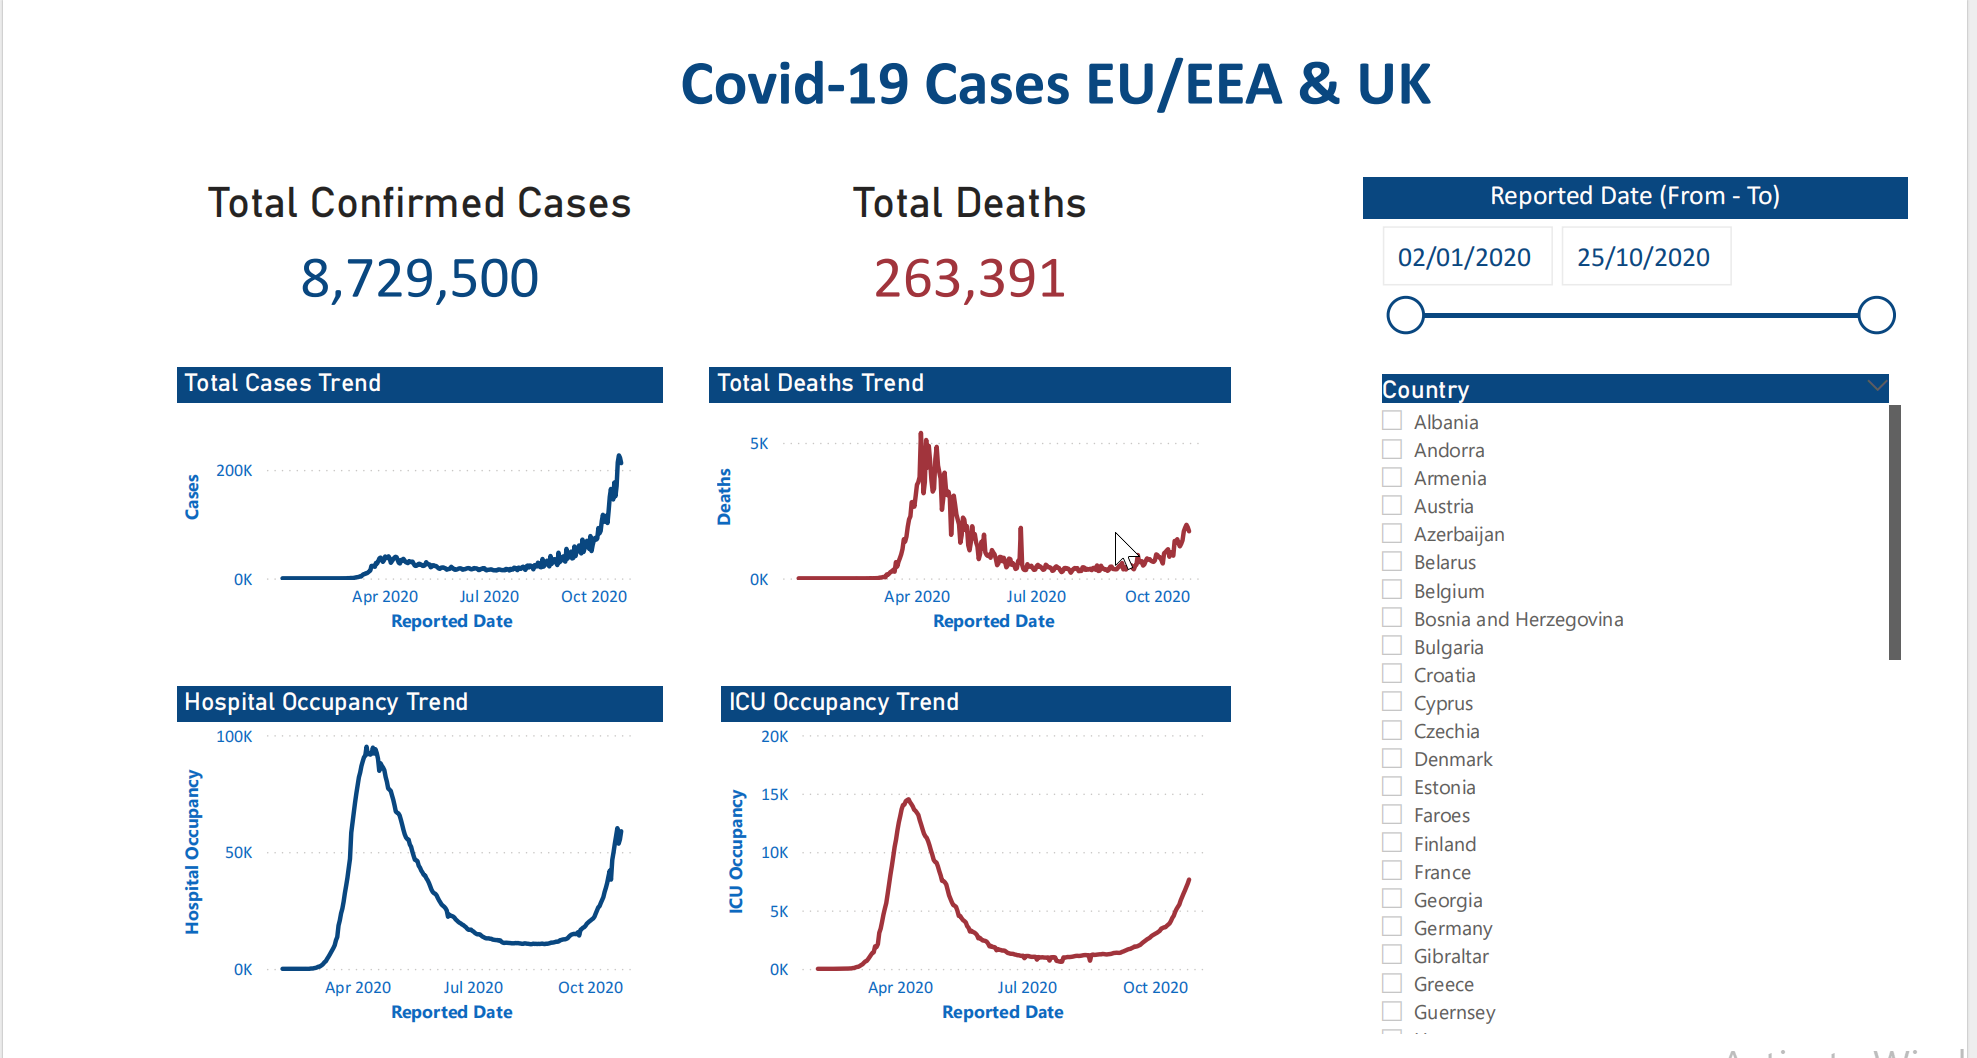

This screenshot's page, from the dashboard's own definition file:
{"tool":"powerbi","page":{"name":"Trends","canvas":[1280,720],"ordinal":0},"visuals":[{"type":"card","title":"Total Confirmed Cases","fields":{"Values":["Sum(covid_reporting cases_and_deaths.cases_count)"]},"box":[94.4,96,328,96],"z":0},{"type":"card","title":"Total Deaths","fields":{"Values":["Sum(covid_reporting cases_and_deaths.deaths_count)"]},"box":[454.4,96,352,96],"z":1000},{"type":"textbox","box":[376,0,624,64],"z":2000},{"type":"lineChart","title":"Total Cases Trend","fields":{"Category":["covid_reporting cases_and_deaths.reported_date"],"Y":["Sum(covid_reporting cases_and_deaths.cases_count)"]},"box":[94.4,224,328,184],"z":3000},{"type":"lineChart","title":"Total Deaths Trend","fields":{"Category":["covid_reporting cases_and_deaths.reported_date"],"Y":["Sum(covid_reporting cases_and_deaths.deaths_count)"]},"box":[454.4,224,352,184],"z":4000},{"type":"slicer","fields":{"Values":["covid_reporting cases_and_deaths.country"]},"box":[896,224,368,456],"z":5000},{"type":"lineChart","title":"Hospital Occupancy Trend","fields":{"Y":["Sum(covid_reporting hospital_admissions_daily.hospital_occupancy_count)"],"Category":["covid_reporting hospital_admissions_daily.reported_date"]},"box":[94.4,440,328,232],"z":6000},{"type":"lineChart","title":"ICU Occupancy Trend","fields":{"Y":["Sum(covid_reporting hospital_admissions_daily.icu_occupancy_count)"],"Category":["covid_reporting hospital_admissions_daily.reported_date"]},"box":[462.4,440,344,232],"z":7000},{"type":"slicer","title":"Reported Date (From - To)","fields":{"Values":["covid_reporting cases_and_deaths.reported_date"]},"box":[896,96,368,112],"z":8001}]}

Visuals, with their boxes on the page's 1280x720 design canvas (x1, y1, x2, y2). These are canvas units, not pixel positions in the 1977x1058 screenshot, which may show the page scaled, cropped or inside an application window:
"Total Confirmed Cases" card: <bbox>94, 96, 422, 192</bbox>
"Total Deaths" card: <bbox>454, 96, 806, 192</bbox>
textbox: <bbox>376, 0, 1000, 64</bbox>
"Total Cases Trend" lineChart: <bbox>94, 224, 422, 408</bbox>
"Total Deaths Trend" lineChart: <bbox>454, 224, 806, 408</bbox>
slicer - covid_reporting cases_and_deaths.country: <bbox>896, 224, 1264, 680</bbox>
"Hospital Occupancy Trend" lineChart: <bbox>94, 440, 422, 672</bbox>
"ICU Occupancy Trend" lineChart: <bbox>462, 440, 806, 672</bbox>
"Reported Date (From - To)" slicer: <bbox>896, 96, 1264, 208</bbox>
